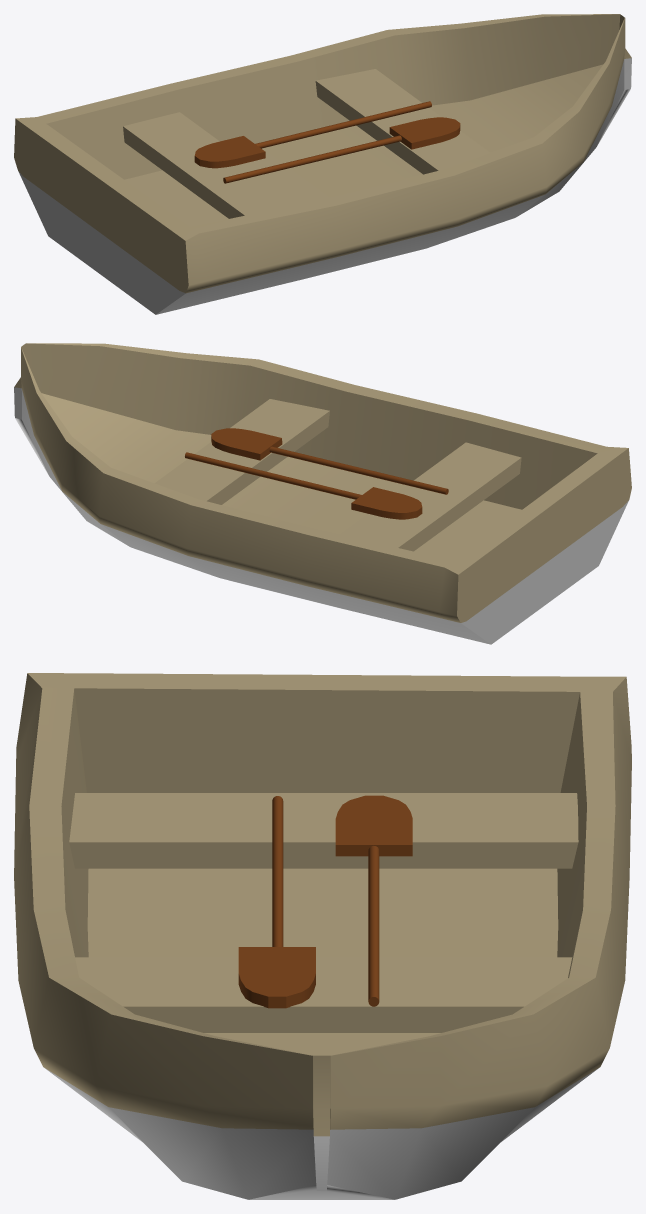
Rendered from Boat.fbx.
The picture shows the model from 3 angles, top to bottom: view 1: azimuth 30°, elevation 25°; view 2: azimuth 150°, elevation 25°; view 3: azimuth 270°, elevation 25°; orthographic projection. The views are drawn at different scales.
Parts seen in each view (by area): view 1: pCube5, pCylinder3, pCylinder2; view 2: pCube5, pCylinder3, pCylinder2; view 3: pCube5, pCylinder3, pCylinder2.
Part boxes in pixels (box(x1,y1,x2,y2)): pCube5: box(14, 14, 631, 314); pCylinder3: box(194, 101, 431, 168); pCylinder2: box(223, 117, 460, 183); pCube5: box(14, 343, 631, 644); pCylinder3: box(185, 452, 422, 519); pCylinder2: box(211, 428, 448, 494); pCube5: box(14, 673, 631, 1199); pCylinder3: box(335, 795, 412, 1006); pCylinder2: box(238, 796, 315, 1008).
Bounding box in the file's own units: 22.11 × 5.31 × 12.73.
